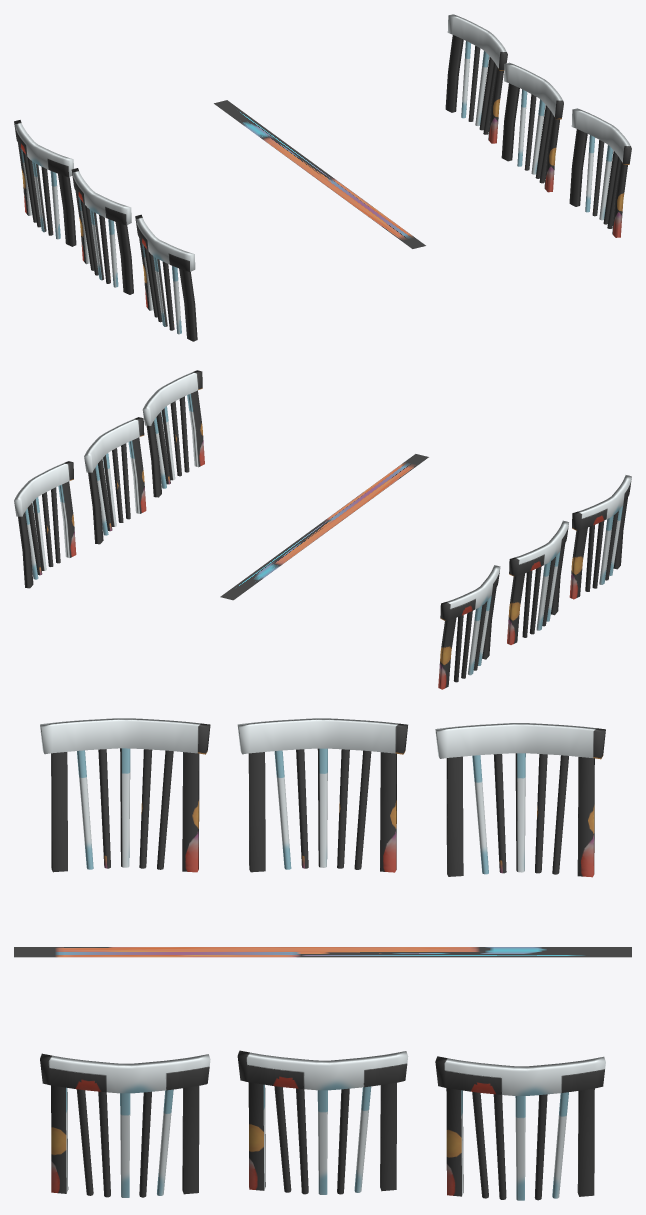
File: levelTableLayerTwo.obj
3 views of the same model, one above another, from view 1: azimuth 30°, elevation 25°; view 2: azimuth 150°, elevation 25°; view 3: azimuth 270°, elevation 25° (orthographic). The views are drawn at different scales.
Visible parts, largest first — view 1: Chairs, Path; view 2: Chairs, Path; view 3: Chairs, Path.
Part boxes in pixels (x1,y1,x2,y2): Chairs: (14,14,631,341); Path: (214,100,425,248); Chairs: (14,370,631,689); Path: (220,454,428,600); Chairs: (40,718,605,1200); Path: (14,947,631,957).
Size of what is drawn, in the model's own units: 67.7 by 12.59 by 50.
